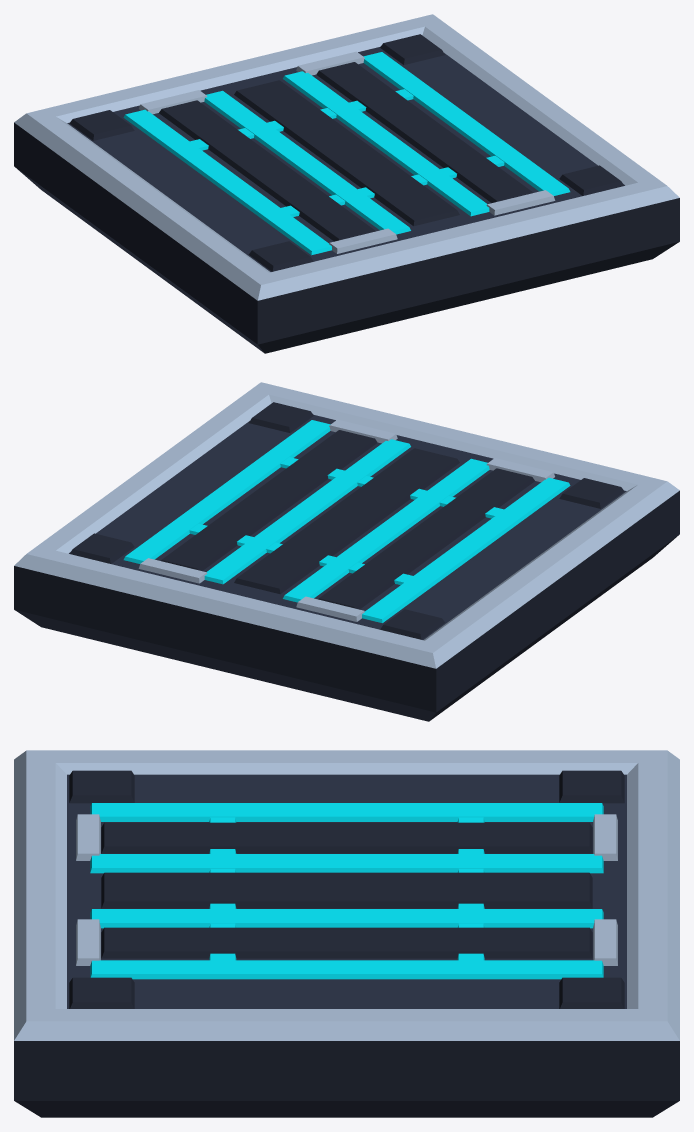
The model's file is SM_ArenaTile_03_IceCorridor.obj.
3 renders of one model, top to bottom at view 1: azimuth 30°, elevation 25°; view 2: azimuth 150°, elevation 25°; view 3: azimuth 270°, elevation 25°, orthographic. The views are drawn at different scales.
Parts seen in each view (by area): view 1: SM_ArenaTile_03_IceCorridor__MAT_DarkNeutral, SM_ArenaTile_03_IceCorridor__MAT_LightTrim, SM_ArenaTile_03_IceCorridor__MAT_AltNeutral, SM_ArenaTile_03_IceCorridor__EMI_Ice; view 2: SM_ArenaTile_03_IceCorridor__MAT_DarkNeutral, SM_ArenaTile_03_IceCorridor__MAT_LightTrim, SM_ArenaTile_03_IceCorridor__MAT_AltNeutral, SM_ArenaTile_03_IceCorridor__EMI_Ice; view 3: SM_ArenaTile_03_IceCorridor__MAT_DarkNeutral, SM_ArenaTile_03_IceCorridor__MAT_LightTrim, SM_ArenaTile_03_IceCorridor__EMI_Ice, SM_ArenaTile_03_IceCorridor__MAT_AltNeutral.
Boxes of the visible parts, <box> form: SM_ArenaTile_03_IceCorridor__MAT_DarkNeutral: <box>14,34,679,353</box>; SM_ArenaTile_03_IceCorridor__MAT_LightTrim: <box>14,14,679,300</box>; SM_ArenaTile_03_IceCorridor__MAT_AltNeutral: <box>67,46,624,271</box>; SM_ArenaTile_03_IceCorridor__EMI_Ice: <box>123,52,570,255</box>; SM_ArenaTile_03_IceCorridor__MAT_DarkNeutral: <box>14,402,679,721</box>; SM_ArenaTile_03_IceCorridor__MAT_LightTrim: <box>14,382,679,668</box>; SM_ArenaTile_03_IceCorridor__MAT_AltNeutral: <box>69,414,626,639</box>; SM_ArenaTile_03_IceCorridor__EMI_Ice: <box>123,420,570,623</box>; SM_ArenaTile_03_IceCorridor__MAT_DarkNeutral: <box>14,770,679,1117</box>; SM_ArenaTile_03_IceCorridor__MAT_LightTrim: <box>14,750,679,1040</box>; SM_ArenaTile_03_IceCorridor__EMI_Ice: <box>90,803,603,979</box>; SM_ArenaTile_03_IceCorridor__MAT_AltNeutral: <box>67,774,626,1008</box>.
Size of the model in its own units: 11.8 by 2 by 11.8.
4 materials, 4 textured.
